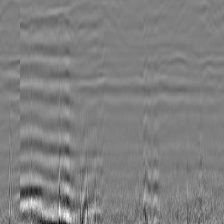cavities: (112, 52, 224, 176)
